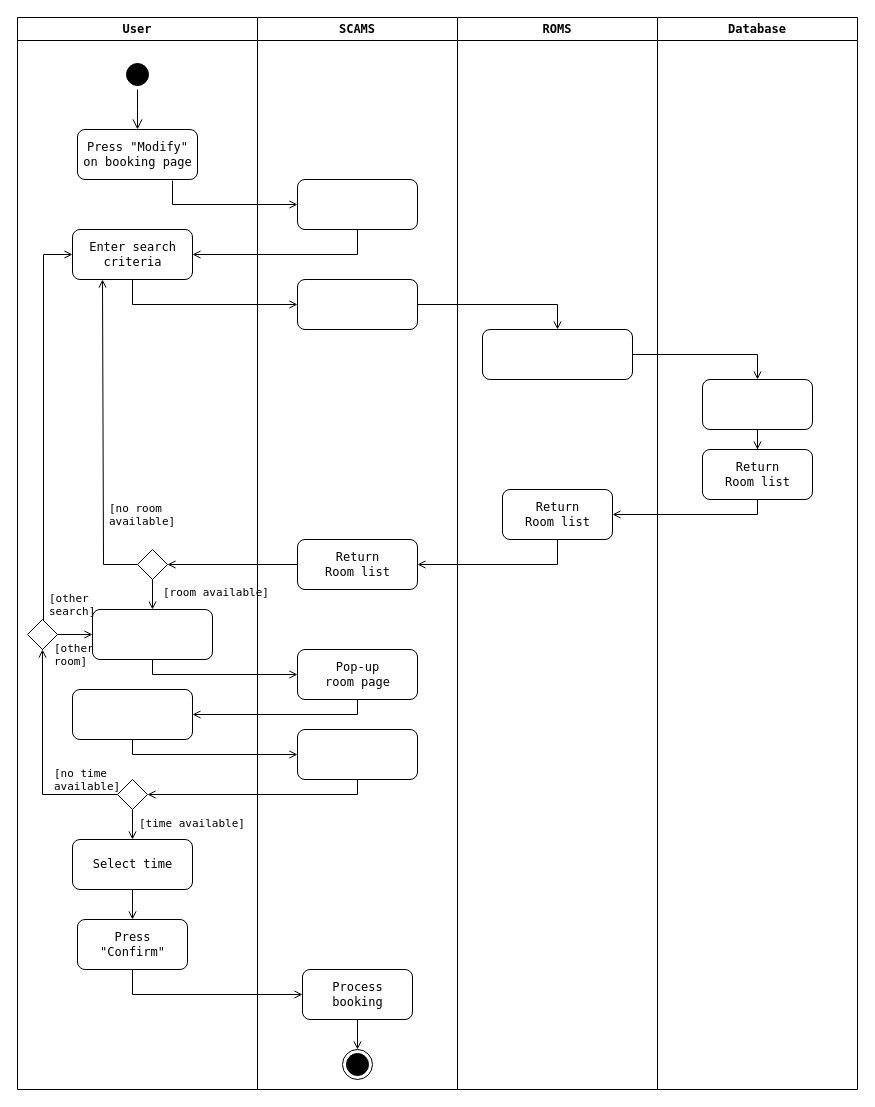
Image size: 875x1107. Some labels were removed from this diagram. Each missing label, with the centre of its shape:
Get List of Room: (x=557, y=354)
Open searching page: (x=357, y=204)
Open time list: (x=357, y=754)
Process request room list: (x=357, y=304)
Process Room list: (x=757, y=404)
Select room: (x=152, y=634)
Select time list: (x=132, y=714)
